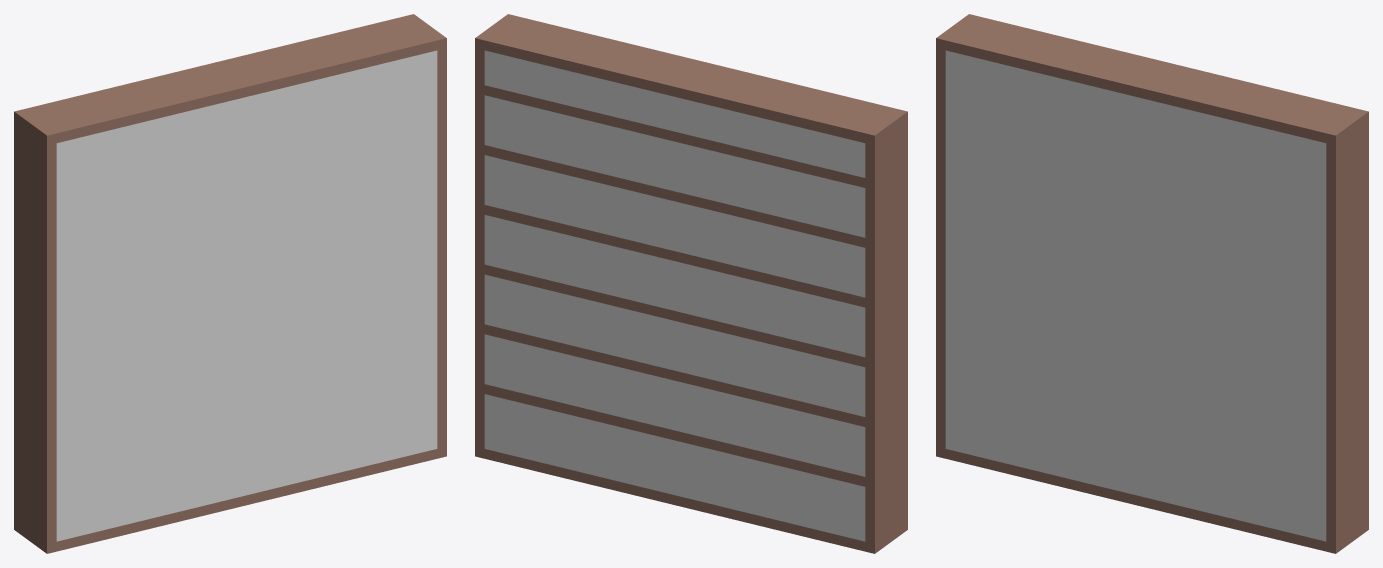
The model's file is Cupboard.fbx.
3 views of the same model, side by side, from view 1: azimuth 30°, elevation 25°; view 2: azimuth 150°, elevation 25°; view 3: azimuth 330°, elevation 25° (orthographic).
Visible parts, largest first — view 1: CupboardReference, CupboardWall_TopBottom; view 2: CupboardReference, CupboardWall_TopBottom; view 3: CupboardReference, CupboardWall_TopBottom.
Boxes of the visible parts, bbox=[...] form: CupboardReference: bbox=[56, 50, 437, 541]; CupboardWall_TopBottom: bbox=[14, 14, 446, 553]; CupboardReference: bbox=[484, 50, 865, 541]; CupboardWall_TopBottom: bbox=[475, 14, 907, 553]; CupboardReference: bbox=[945, 50, 1326, 541]; CupboardWall_TopBottom: bbox=[936, 14, 1368, 553].
Bounding box in the file's own units: 210 × 210 × 30.
